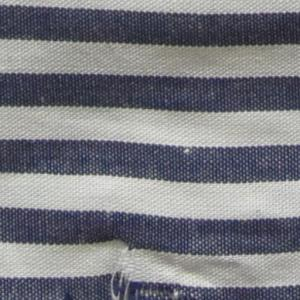Damage: (104, 269, 204, 300)
Wrinkle: (69, 227, 272, 293)
